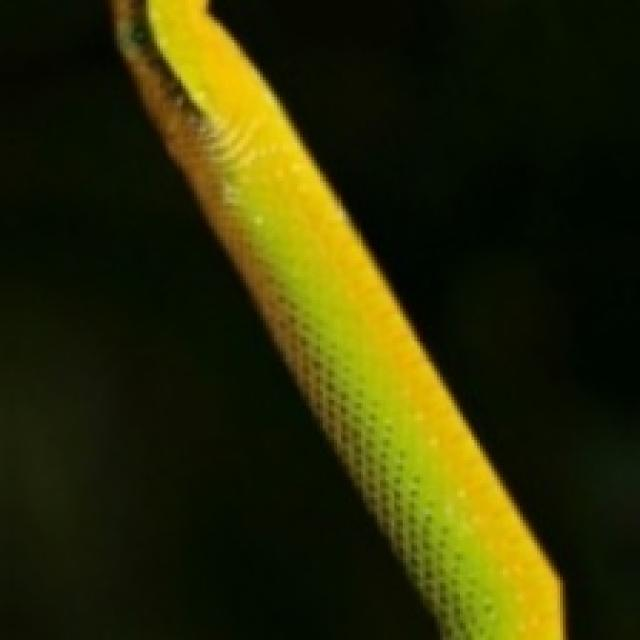red-tailed green ratsnake: (111, 0, 563, 637)
